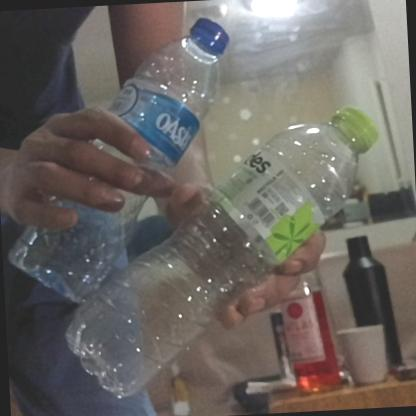plastic_bottles: (69, 91, 392, 394), (0, 7, 233, 278)
